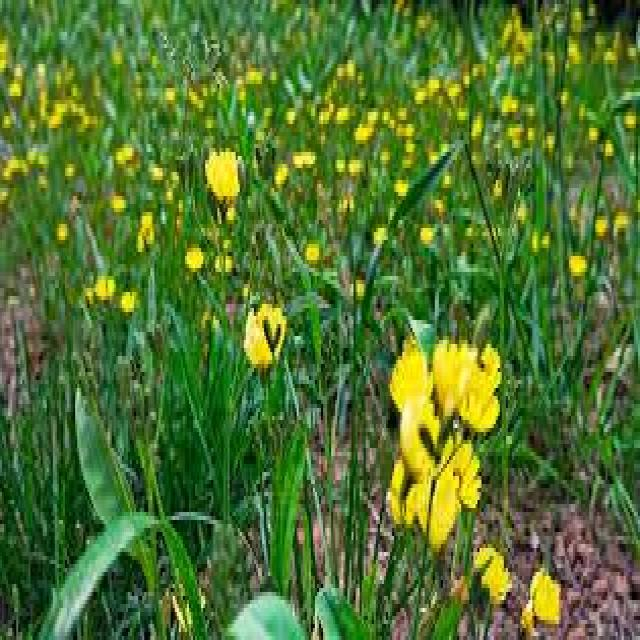organic waste: (400, 400, 459, 532), (244, 296, 288, 384), (203, 138, 244, 226), (464, 354, 503, 442), (469, 532, 508, 600), (388, 340, 425, 408), (533, 566, 562, 618)
